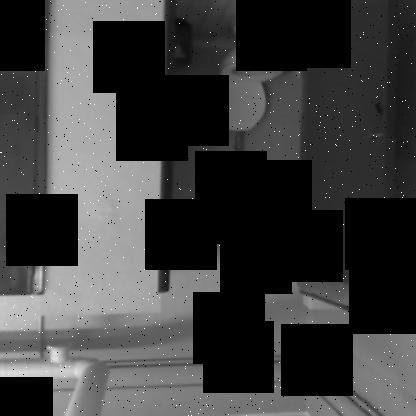Porte: (158, 1, 406, 326)
